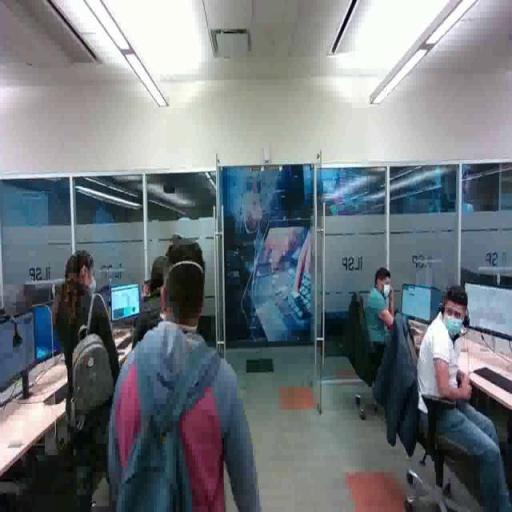person: (109, 243, 263, 512), (60, 251, 124, 512)
